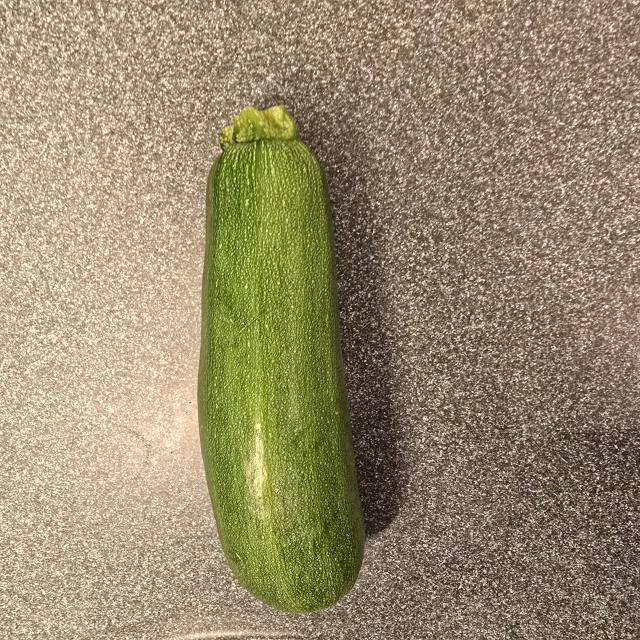Courgette: (198, 106, 364, 612)
